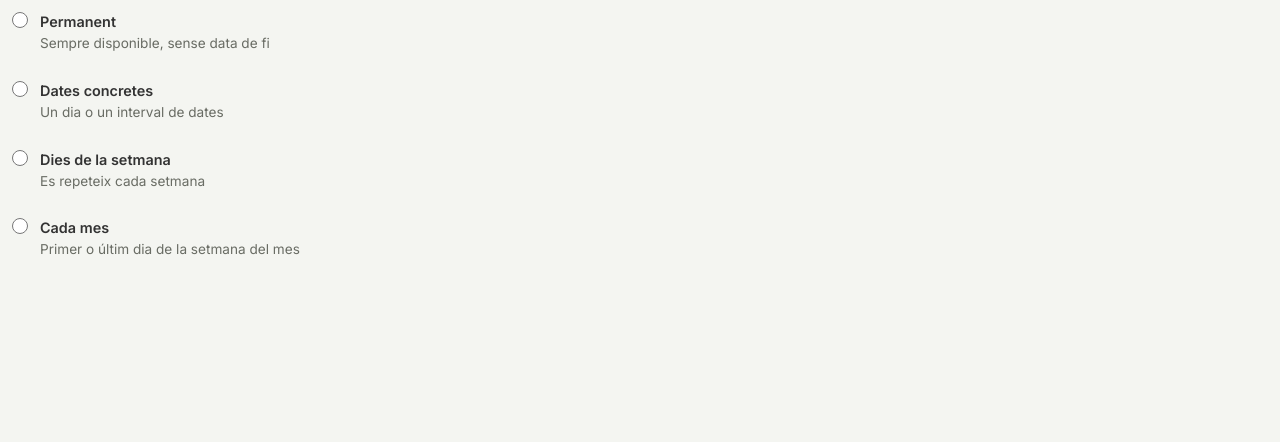
Test: TabQuan.vue › mostra error quan la data de fi precedeix la d'inici
The width and height of the screenshot is (1280, 442).
Click the radio button labelled "Dates concretes Un dia o un interval de dates": (20,89) [12, 81, 28, 97]
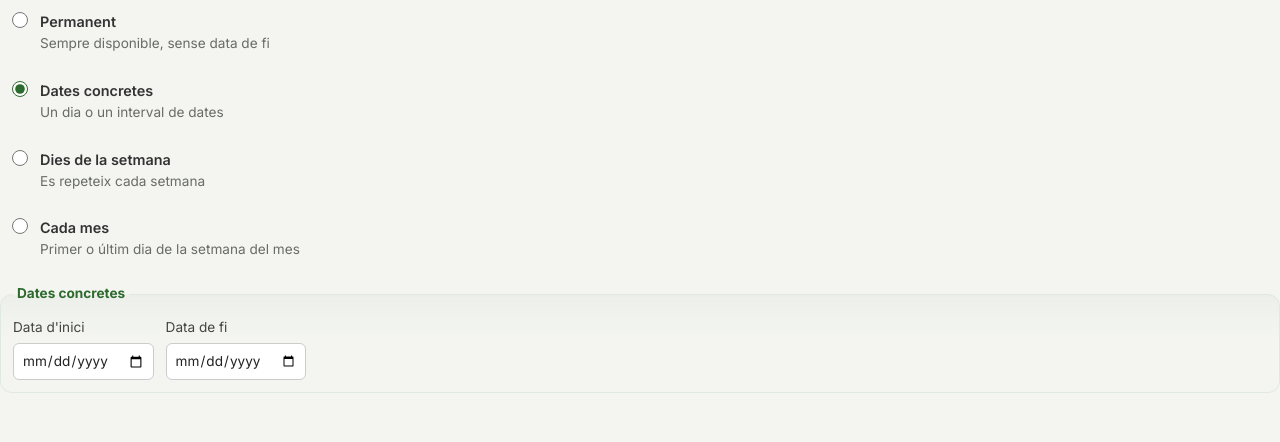
In the date field labelled "Data d'inici": (83,362) [13, 343, 154, 380], type "2026-06-10"
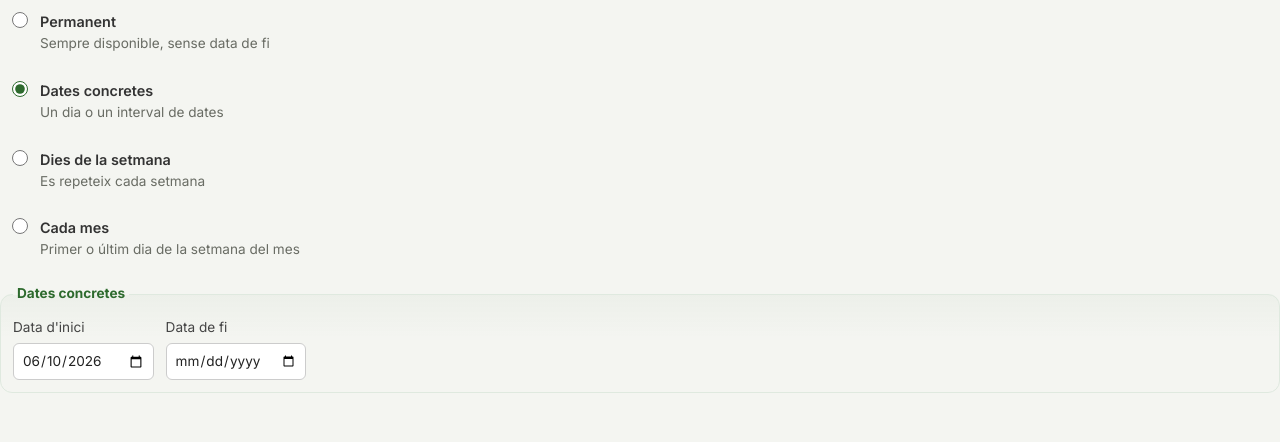
In the date field labelled "Data de fi": (236,362) [166, 343, 306, 380], type "2026-06-01"
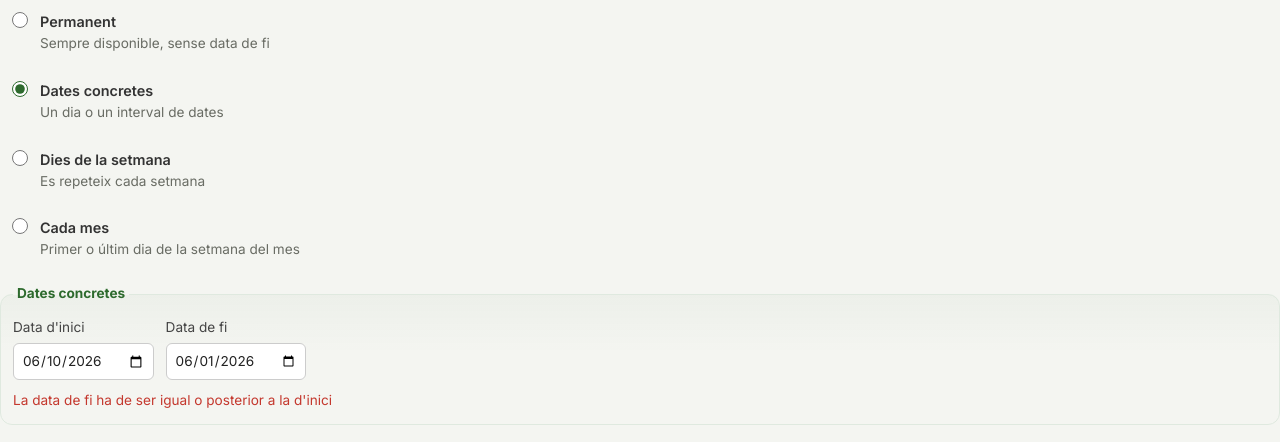
Check: the message "La data de fi ha de ser igual o posterior a la d'inici" is shown, box [13, 392, 332, 408]
